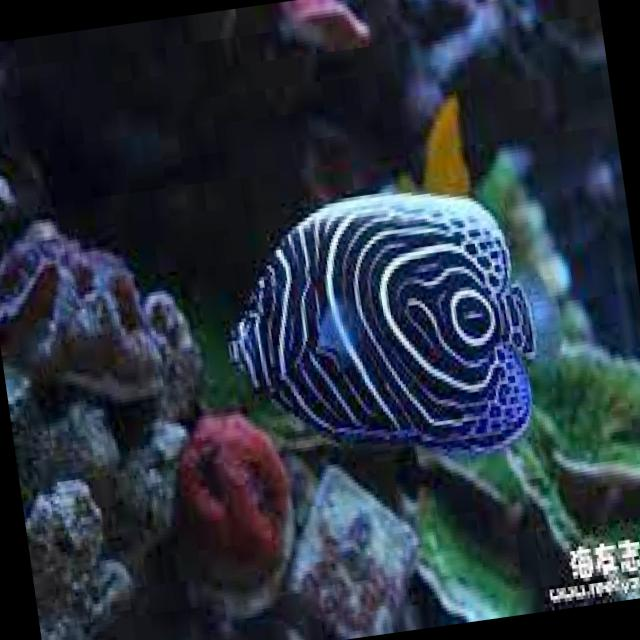AngelFish: (209, 170, 576, 488)
